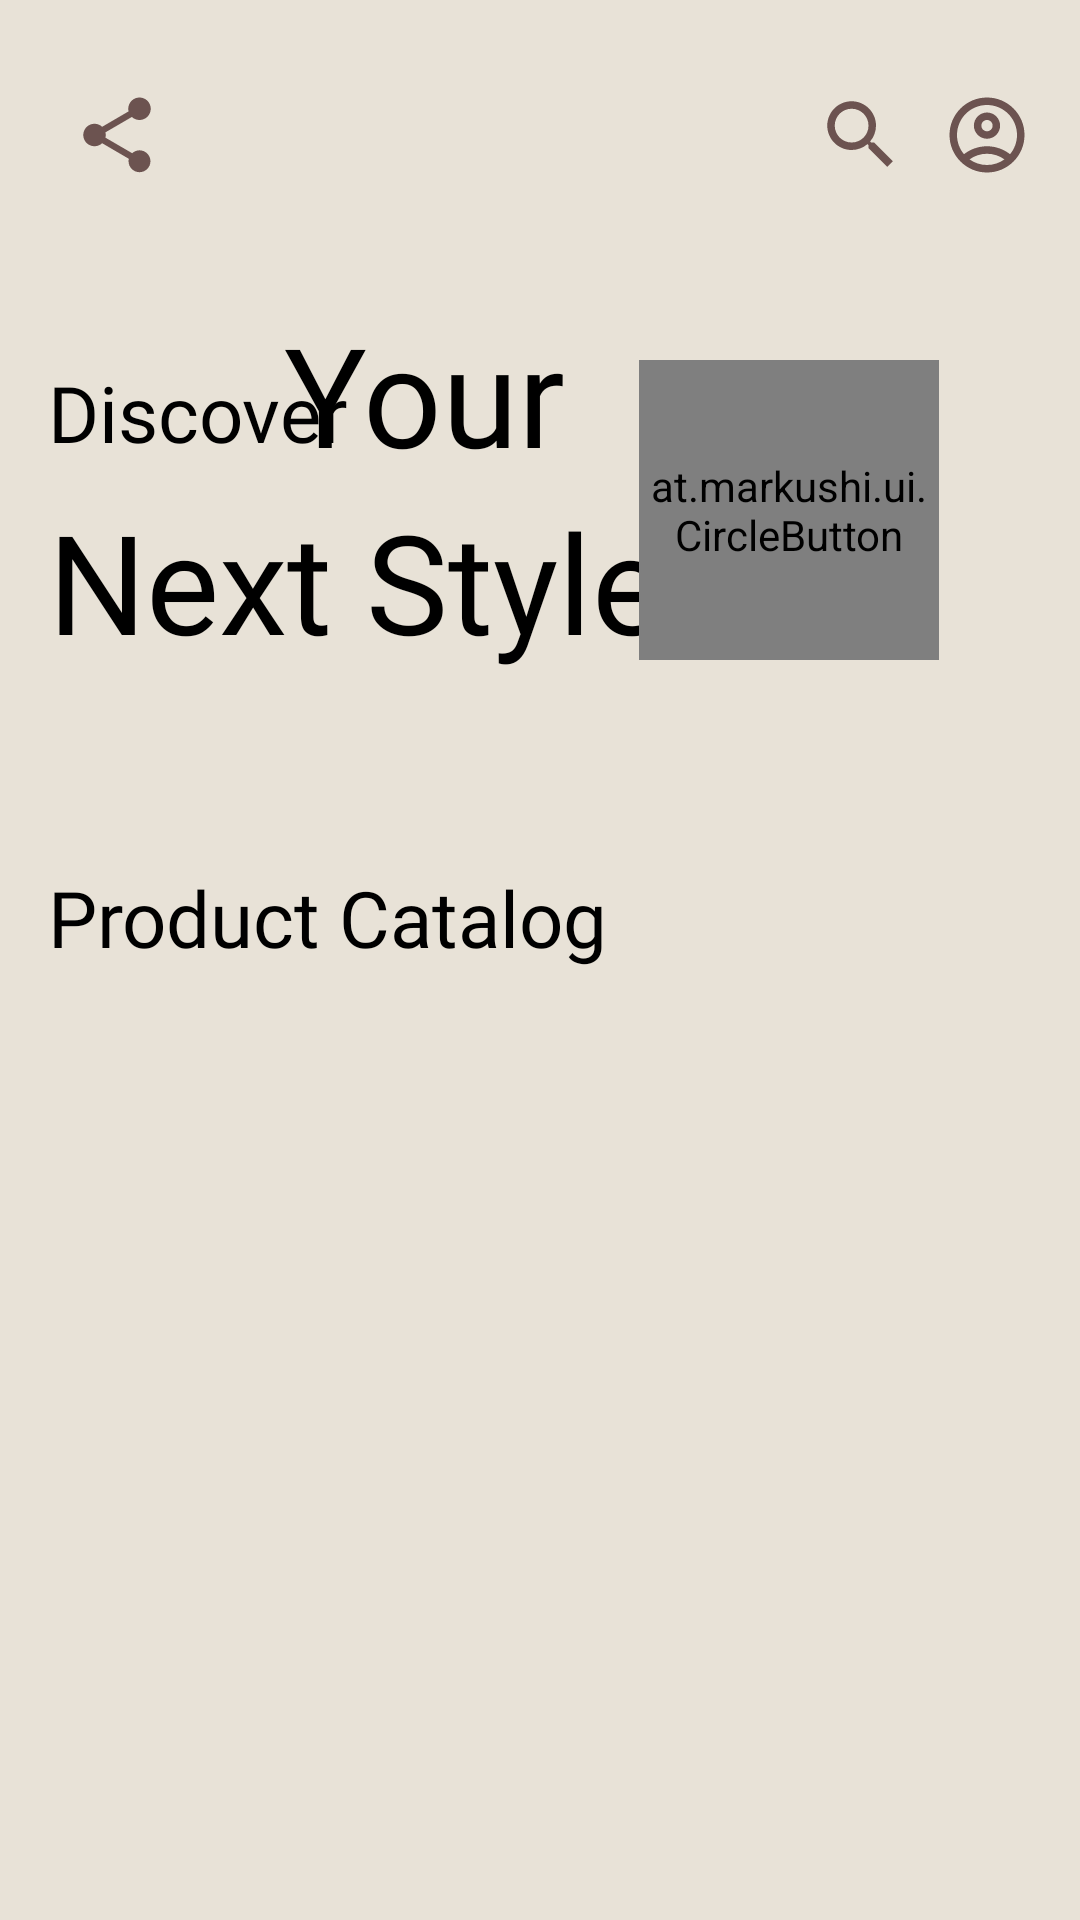

Where icons sit on this 1080x1920 app screen, as (x1, y1, x2, y2):
account circle: (949, 97, 1025, 173)
search: (827, 101, 893, 167)
share: (83, 97, 151, 173)
